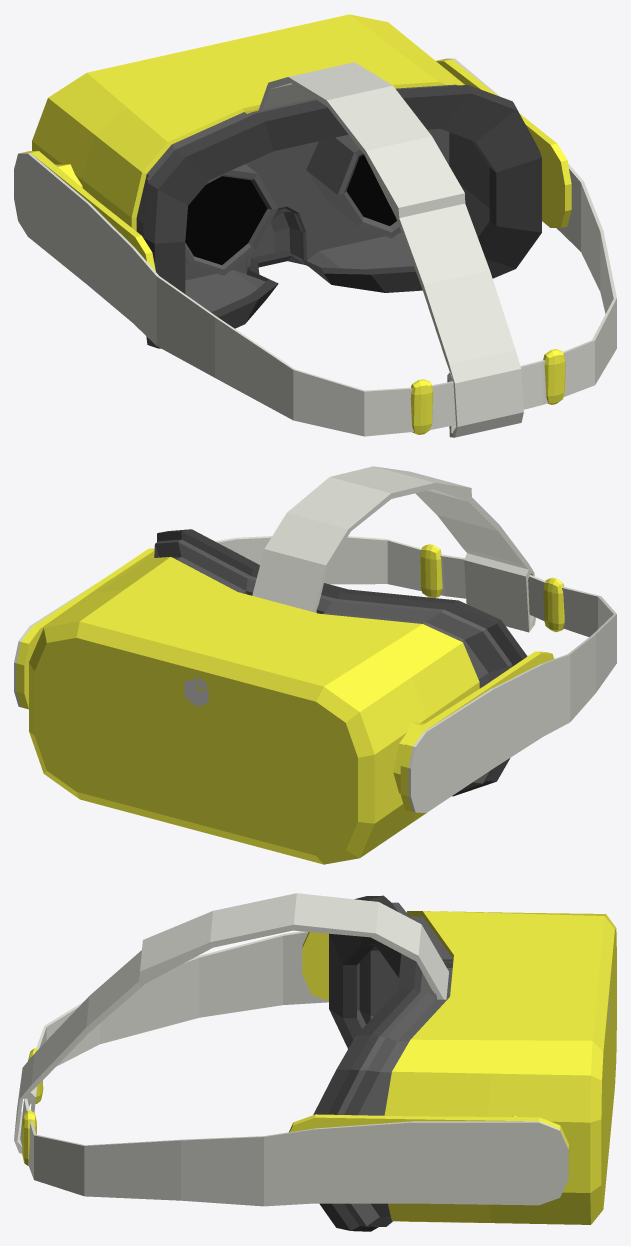
Rendered from vr_headset.glb.
The picture shows the model from 3 angles, top to bottom: view 1: azimuth 30°, elevation 25°; view 2: azimuth 150°, elevation 25°; view 3: azimuth 270°, elevation 25°; orthographic projection. The views are drawn at different scales.
Visible parts, largest first — view 1: headset; view 2: headset; view 3: headset.
Part boxes in pixels (<box>): headset: <box>14,14,616,437</box>; headset: <box>14,466,616,864</box>; headset: <box>14,893,616,1231</box>.
Size of the model in its own units: 0.1994 by 0.1126 by 0.2443.
